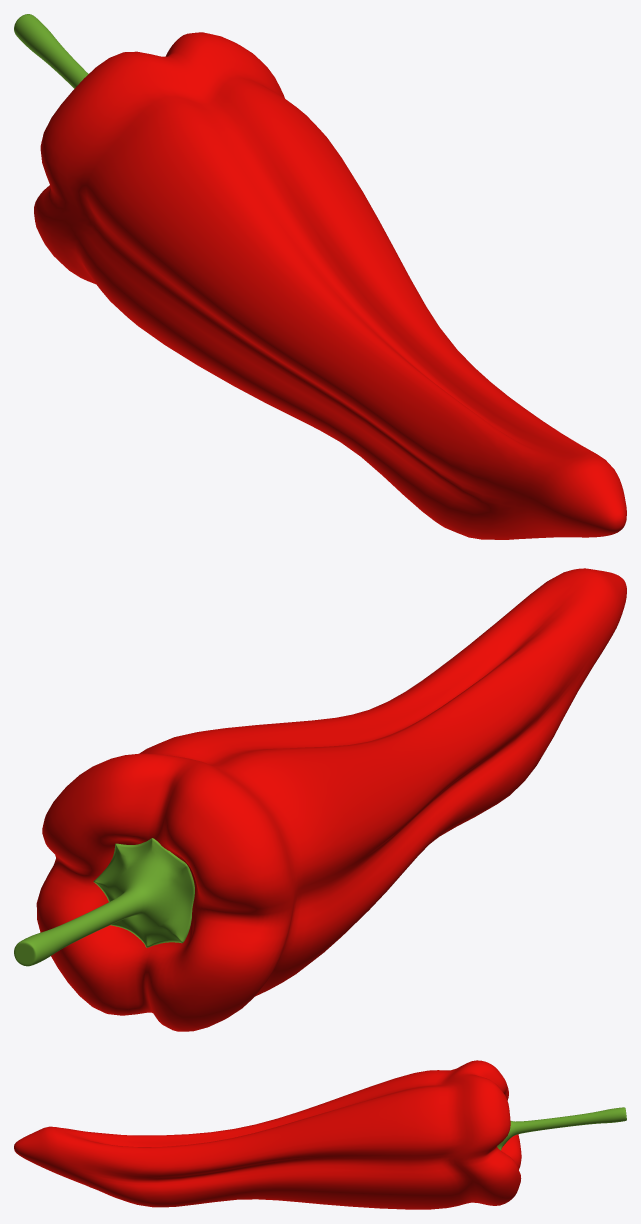
Rendered from vegi5.fbx.
The picture shows the model from 3 angles, top to bottom: view 1: azimuth 30°, elevation 25°; view 2: azimuth 150°, elevation 25°; view 3: azimuth 270°, elevation 25°; orthographic projection. The views are drawn at different scales.
Visible parts, largest first — view 1: poblano pepper.003; view 2: poblano pepper.003; view 3: poblano pepper.003.
Part boxes in pixels (x1,y1,x2,y2): poblano pepper.003: [14, 14, 626, 539]; poblano pepper.003: [14, 568, 626, 1031]; poblano pepper.003: [14, 1060, 626, 1209].
Size of the model in its own units: 113 by 116 by 492.
